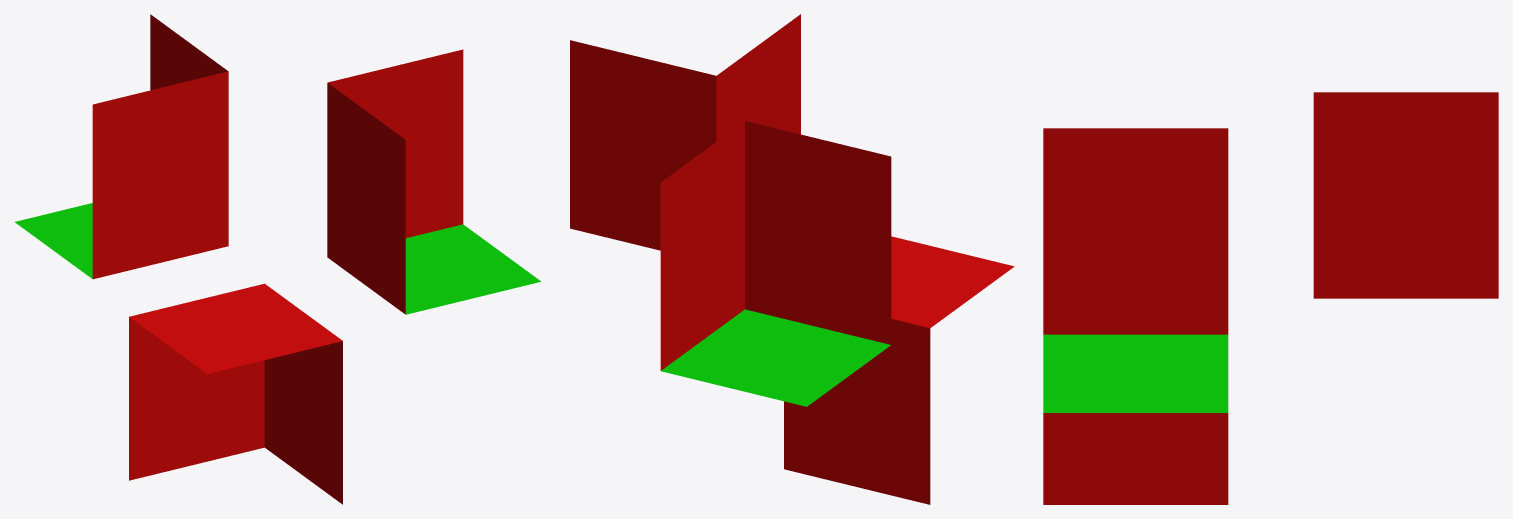
The picture shows the model from 3 angles, left to right: view 1: azimuth 30°, elevation 25°; view 2: azimuth 150°, elevation 25°; view 3: azimuth 270°, elevation 25°; orthographic projection. The views are drawn at different scales.
Visible parts, largest first — view 1: None_A_W_A_E_W_E_E_A_None; view 2: None_A_W_A_E_W_E_E_A_None; view 3: None_A_W_A_E_W_E_E_A_None.
Boxes of the visible parts, box(x1,y1,x2,y2) form: None_A_W_A_E_W_E_E_A_None: box(15, 14, 540, 504); None_A_W_A_E_W_E_E_A_None: box(570, 14, 1014, 504); None_A_W_A_E_W_E_E_A_None: box(1043, 92, 1498, 504).
Size of the model in its own units: 100 by 100 by 100.
